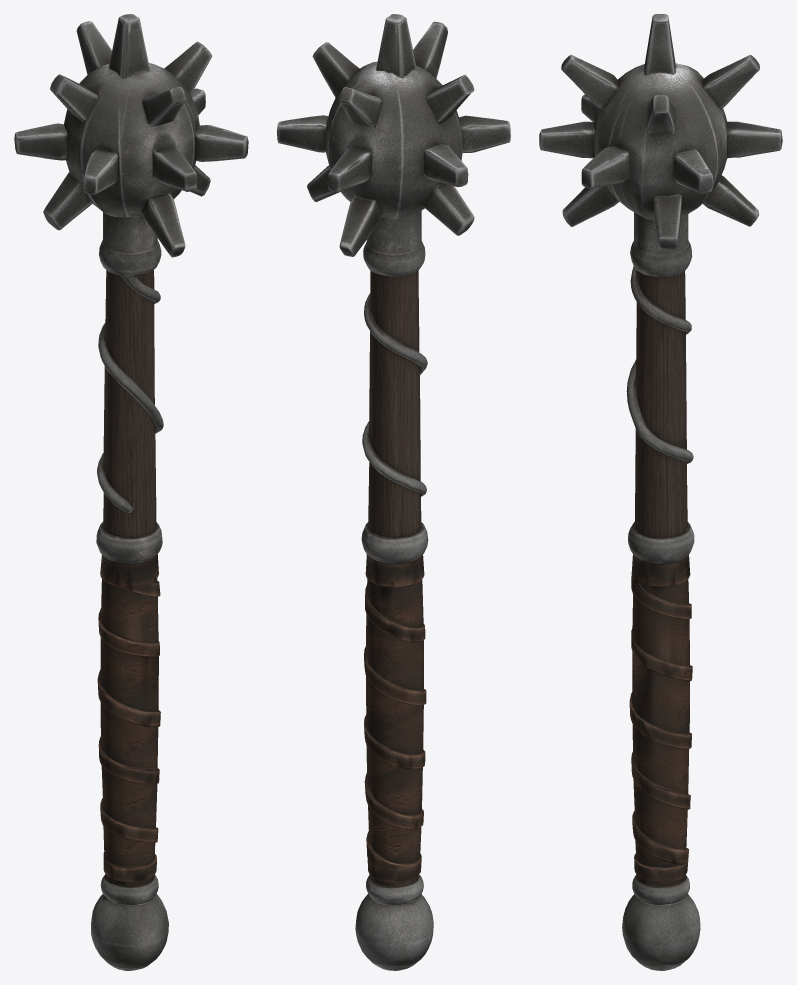
The model's file is wpn_mace_iron.glb.
The picture shows the model from 3 angles, left to right: view 1: azimuth 30°, elevation 25°; view 2: azimuth 150°, elevation 25°; view 3: azimuth 270°, elevation 25°; orthographic projection.
Parts seen in each view (by area): view 1: wpn_mace_iron; view 2: wpn_mace_iron; view 3: wpn_mace_iron.
Part boxes in pixels (x1,y1,x2,y2): wpn_mace_iron: [14, 14, 248, 970]; wpn_mace_iron: [277, 14, 510, 970]; wpn_mace_iron: [539, 14, 782, 970].
Size of the model in its own units: 0.1501 by 0.72 by 0.1669.
1 material, 1 textured.
